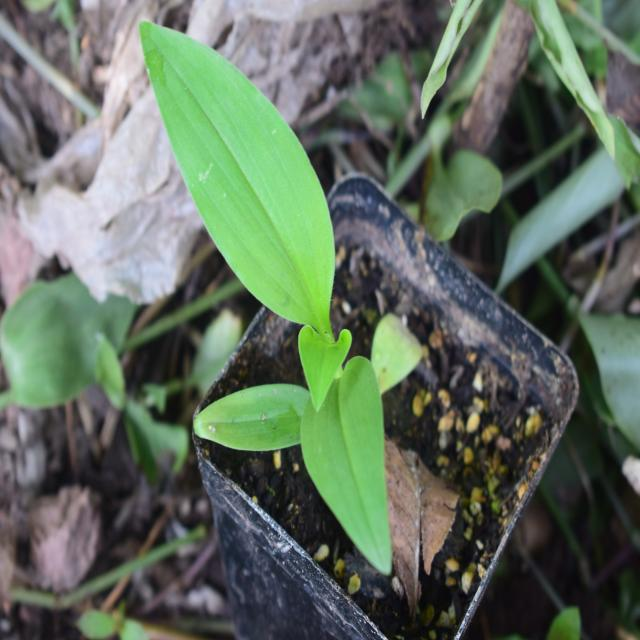Common Dayflower: (136, 31, 409, 567)
